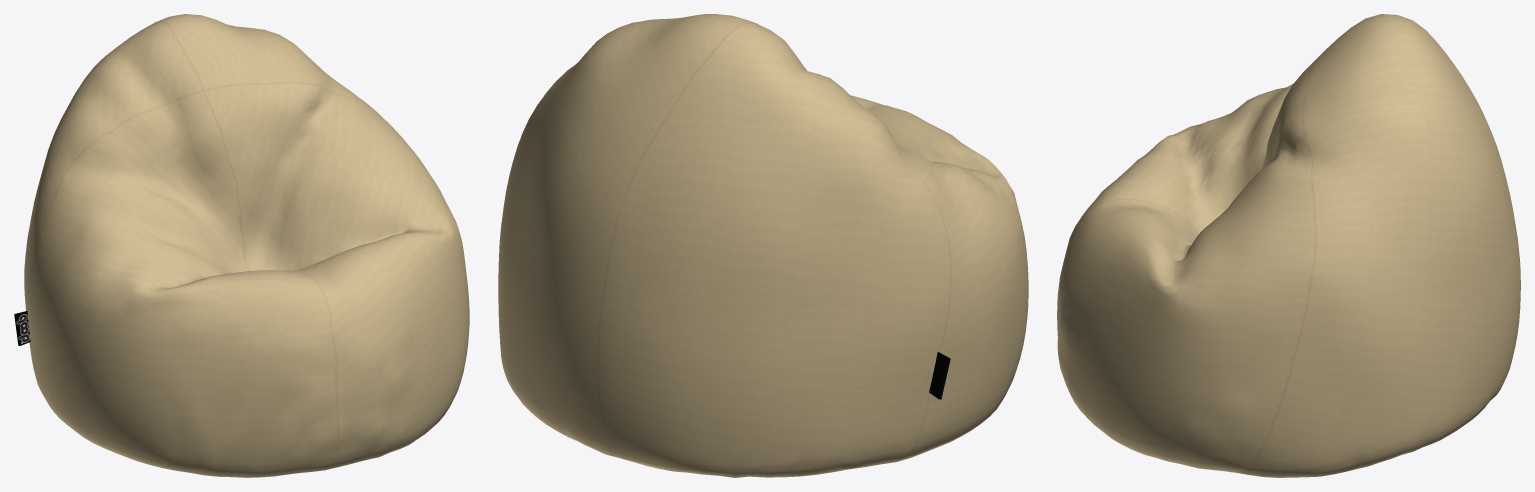
Rendered from doob-bean-bag-1-winter-wheat-small.glb.
3 renders of one model, left to right at view 1: azimuth 30°, elevation 25°; view 2: azimuth 150°, elevation 25°; view 3: azimuth 270°, elevation 25°, orthographic. The views are drawn at different scales.
Visible parts, largest first — view 1: bean bag-low.002; view 2: bean bag-low.002; view 3: bean bag-low.002.
Part boxes in pixels (box(x1,y1,x2,y2)): bean bag-low.002: box(14, 14, 469, 477); bean bag-low.002: box(498, 14, 1028, 477); bean bag-low.002: box(1057, 14, 1520, 477).
Bounding box in the file's own units: 0.8 × 0.7 × 0.8.
2 materials, 2 textured.
